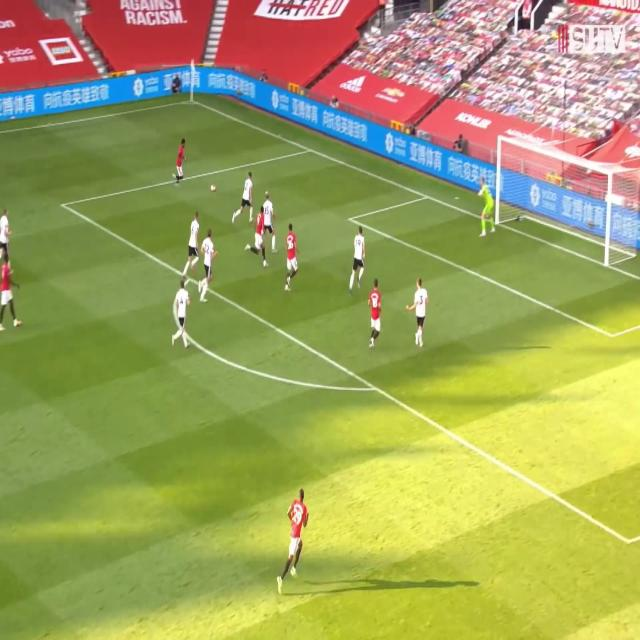Ball: (211, 186, 218, 193)
GoalKeeper: (477, 178, 496, 239)
TEAM 1: (276, 492, 307, 593), (0, 252, 21, 334), (243, 203, 268, 267), (286, 224, 302, 296), (368, 280, 384, 350), (175, 139, 187, 184)
TEAM 2: (172, 283, 195, 352), (406, 278, 428, 348), (198, 233, 218, 299), (230, 173, 254, 226), (348, 229, 366, 294), (261, 185, 277, 251), (184, 215, 201, 271)
